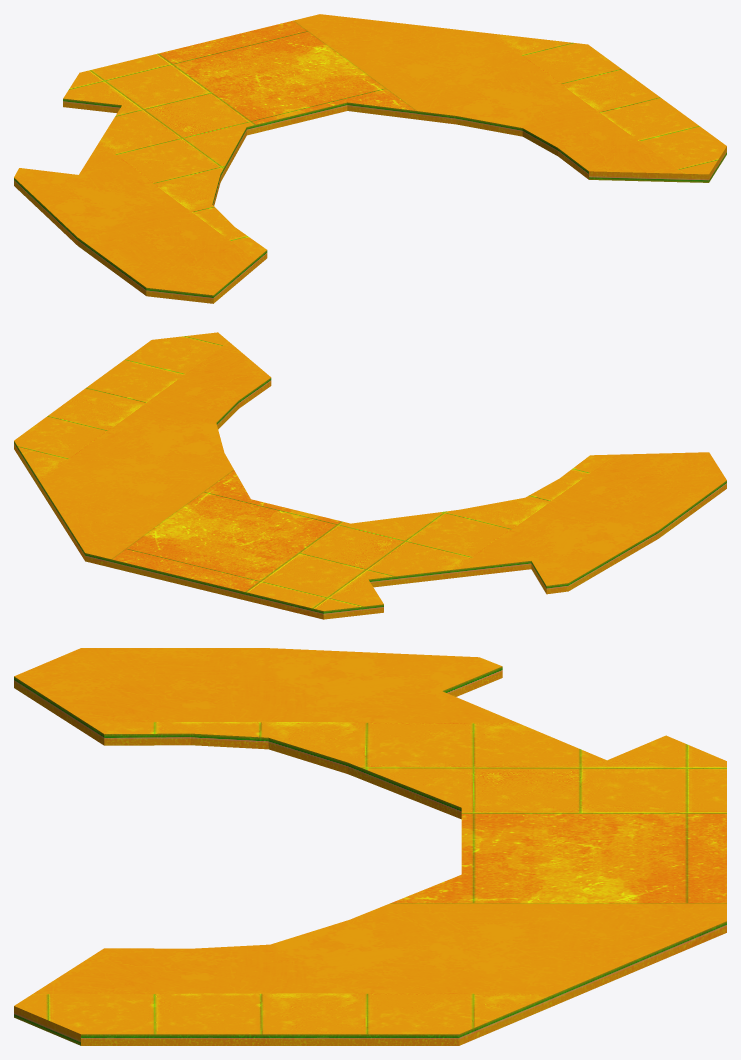
File: FacilityFloor_02_SM_Low.fbx
3 views of the same model, one above another, from view 1: azimuth 30°, elevation 25°; view 2: azimuth 150°, elevation 25°; view 3: azimuth 270°, elevation 25° (orthographic). The views are drawn at different scales.
Visible parts, largest first — view 1: facility_floor_hole_geo; view 2: facility_floor_hole_geo; view 3: facility_floor_hole_geo.
Part boxes in pixels (left/top/right/bottom): facility_floor_hole_geo: left=14, top=14, right=726, bottom=303; facility_floor_hole_geo: left=14, top=332, right=726, bottom=619; facility_floor_hole_geo: left=14, top=648, right=726, bottom=1045.
Size of the model in its own units: 3555 by 50 by 2774.
Materials: 3 (2 with a texture image).
